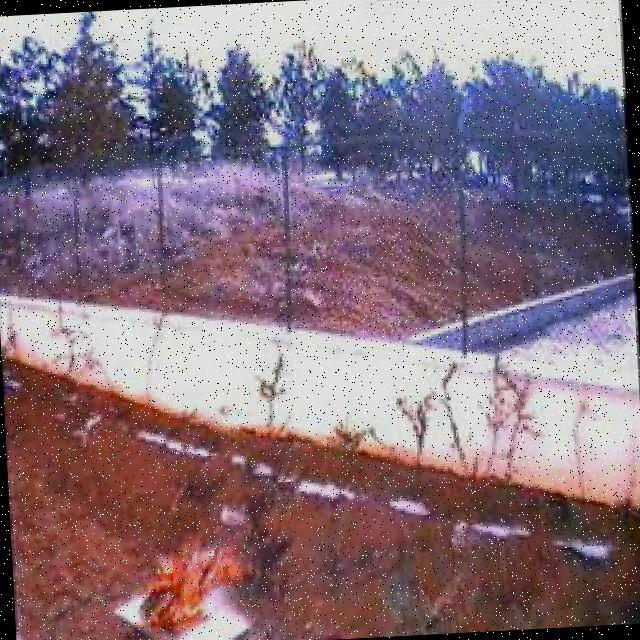Fire: (131, 533, 255, 640)
